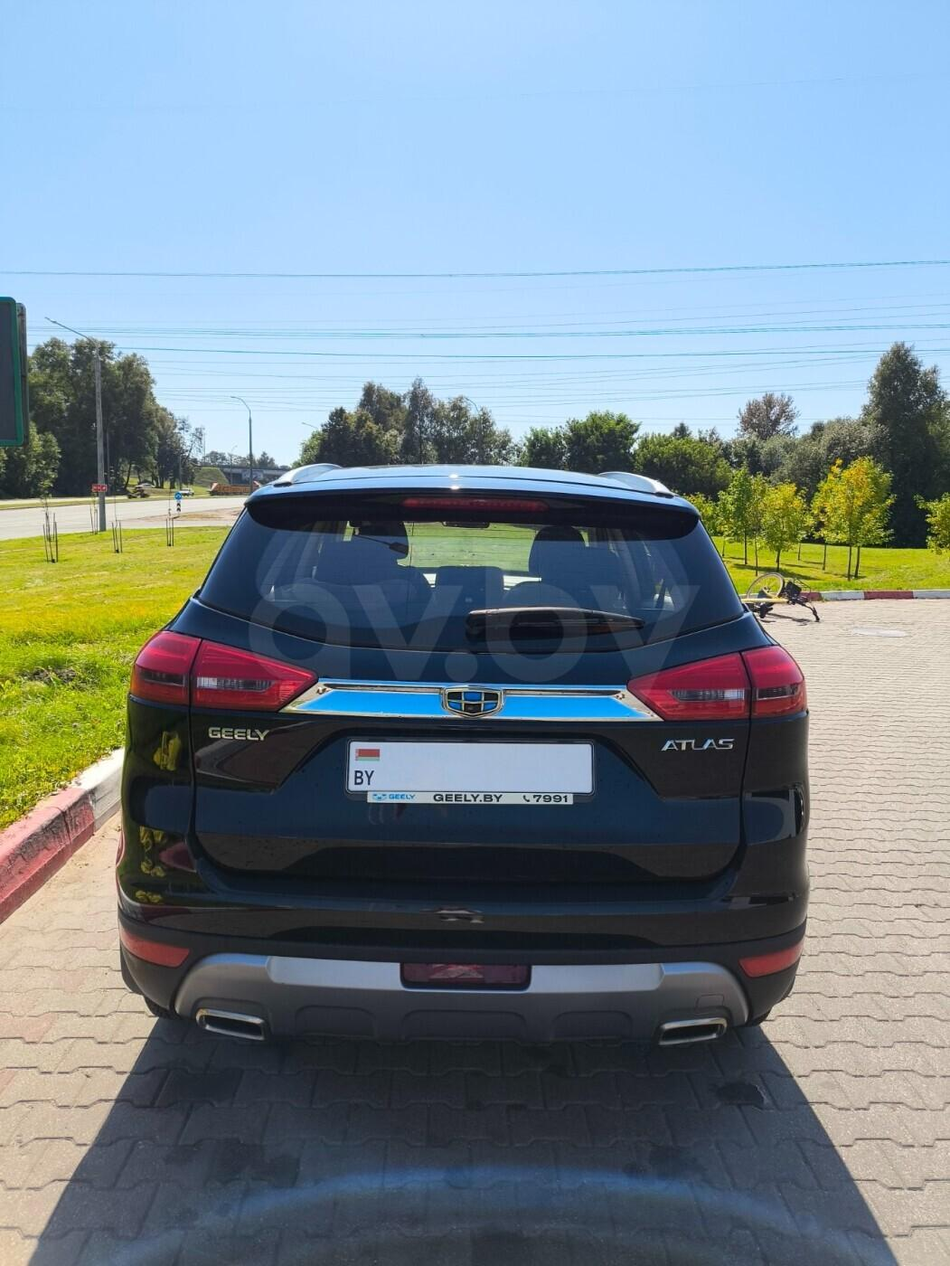Atlas_2016-2023: (118, 463, 821, 1072)
